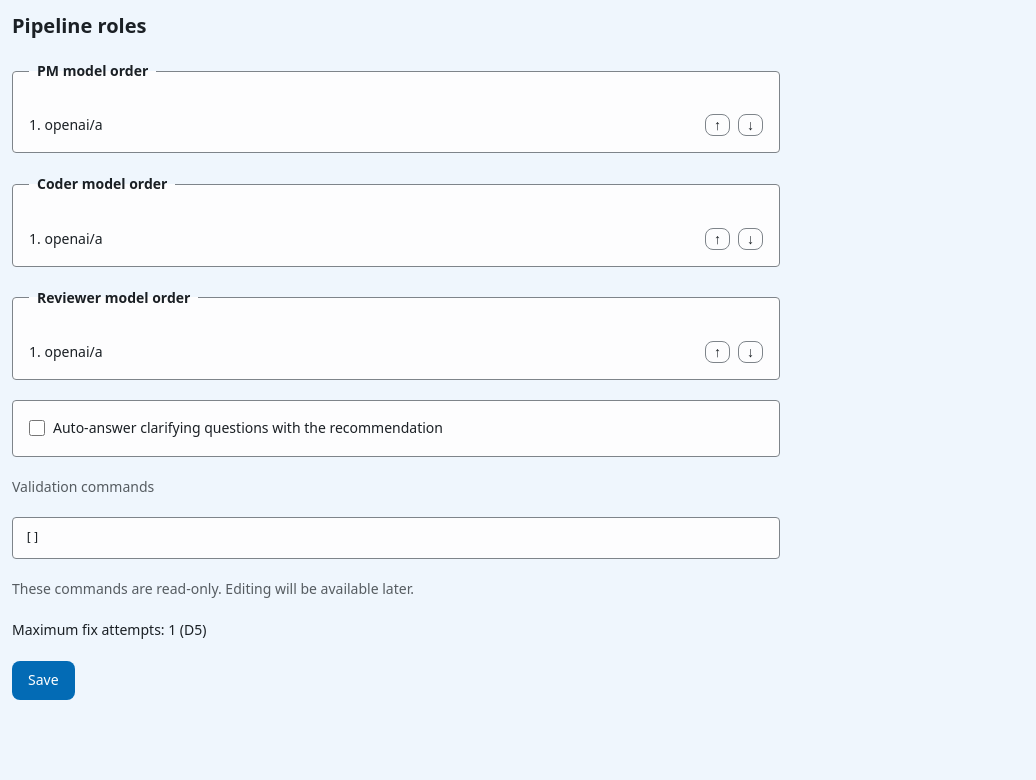
Test: PSTUDIO-01 pipeline settings › shows the default-off toggle, saves it, and renders the saved value
Click the checkbox labelled "Auto-answer clarifying questions with the recommendation".
click(37, 428)  # box [29,420,45,436]
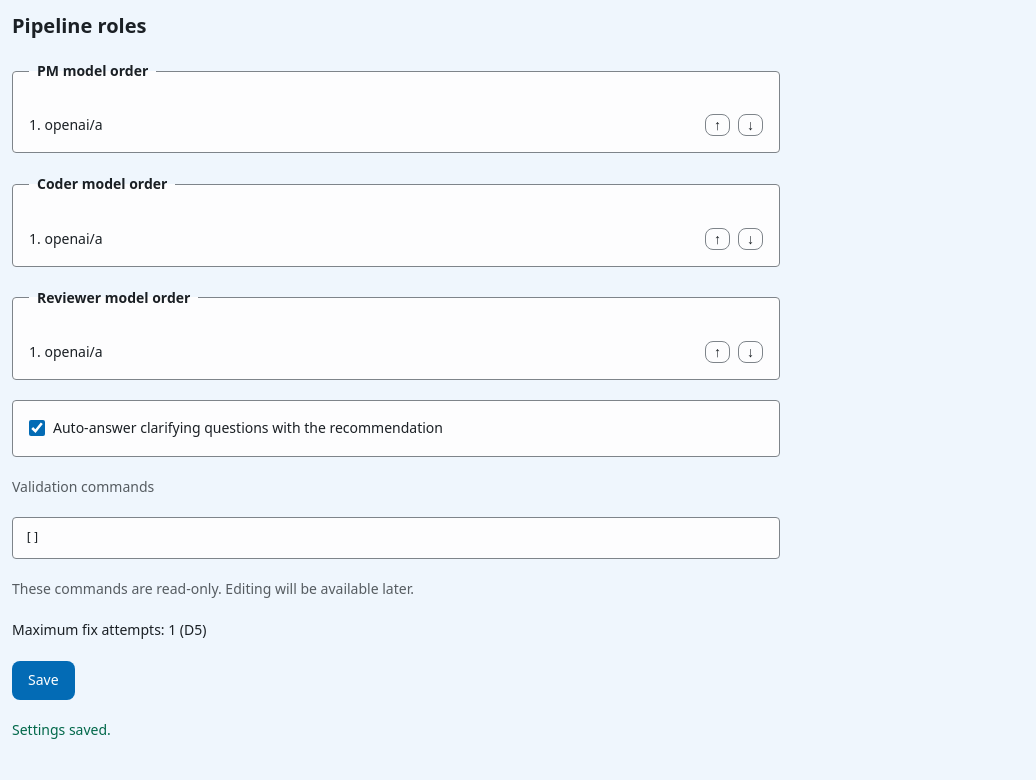
Expected: the checkbox labelled "Auto-answer clarifying questions with the recommendation" is checked, [29,420,45,436]
Expected: the text "Settings saved." is shown, [12,720,111,739]
